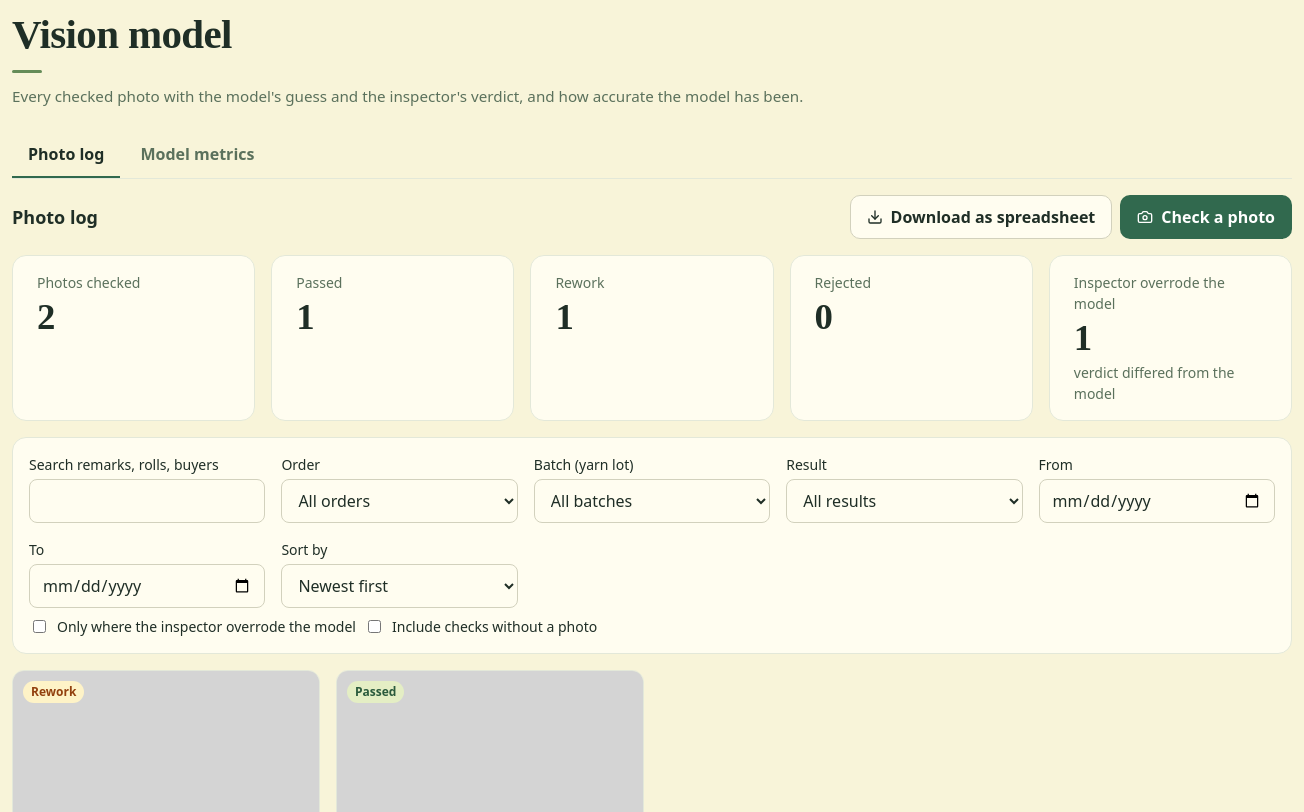
Test: Vision model photo log › has a second tab for how accurate the model has been
Click the tab "Model metrics": (197, 155) [124,132,270,178]
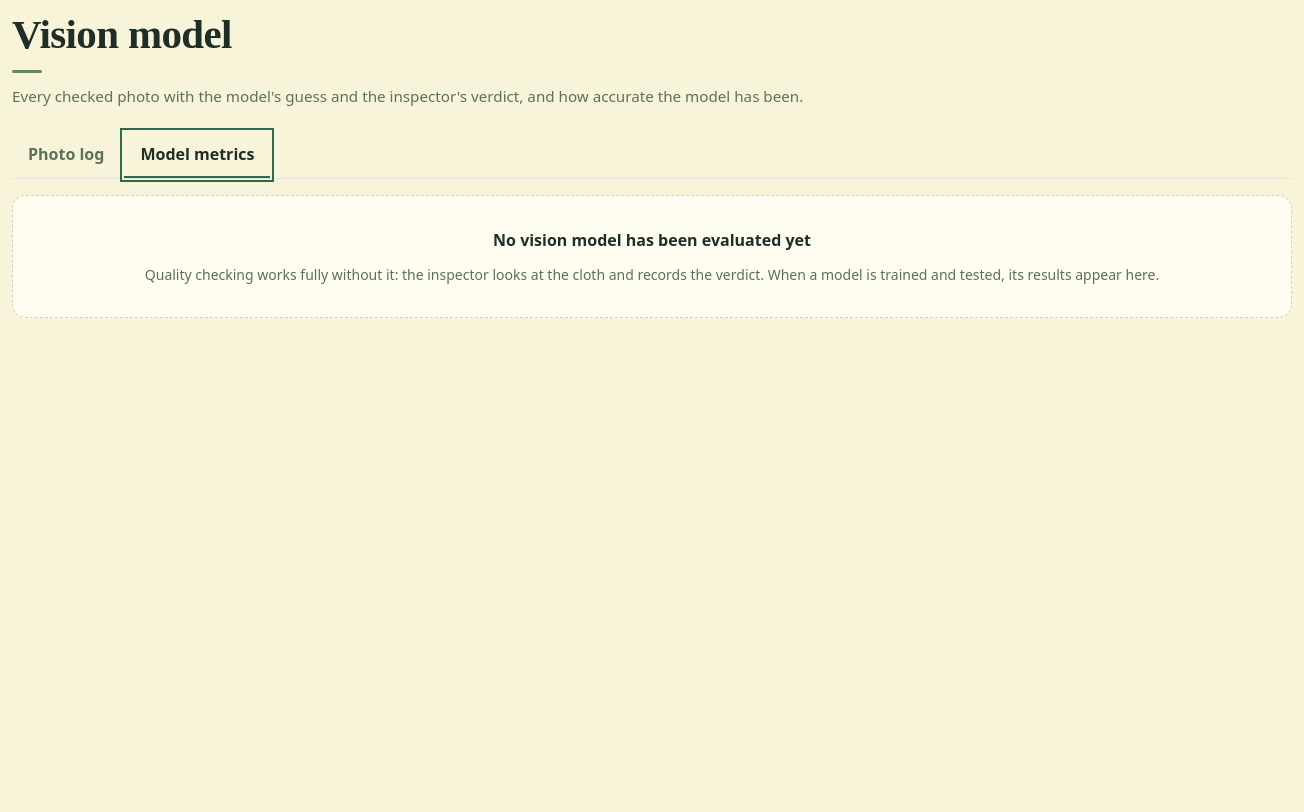
Expected: the text "No vision model has been evaluated yet" is shown, [493,228,811,252]
